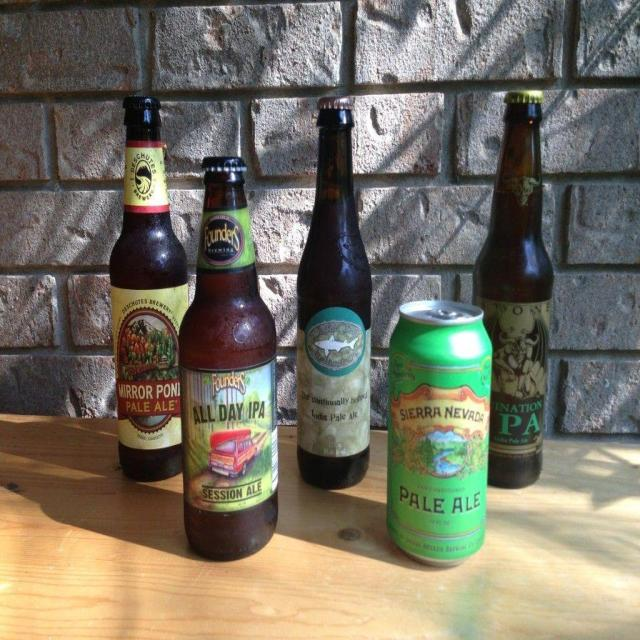can: (386, 300, 494, 570)
glass bottle: (178, 156, 280, 563), (466, 89, 552, 490), (110, 94, 190, 485), (296, 98, 373, 490)
pop tab: (427, 308, 456, 319)
